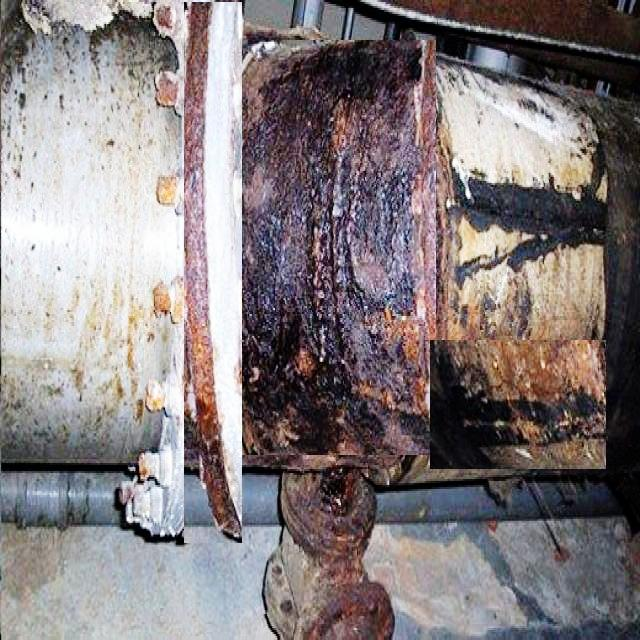Corrosion: (244, 41, 436, 460), (184, 2, 242, 538), (454, 168, 606, 272), (454, 387, 607, 468), (281, 470, 376, 584), (317, 579, 395, 640), (153, 0, 182, 36), (154, 71, 179, 106), (137, 452, 159, 482), (156, 175, 177, 206), (145, 380, 165, 412), (153, 282, 171, 316)
